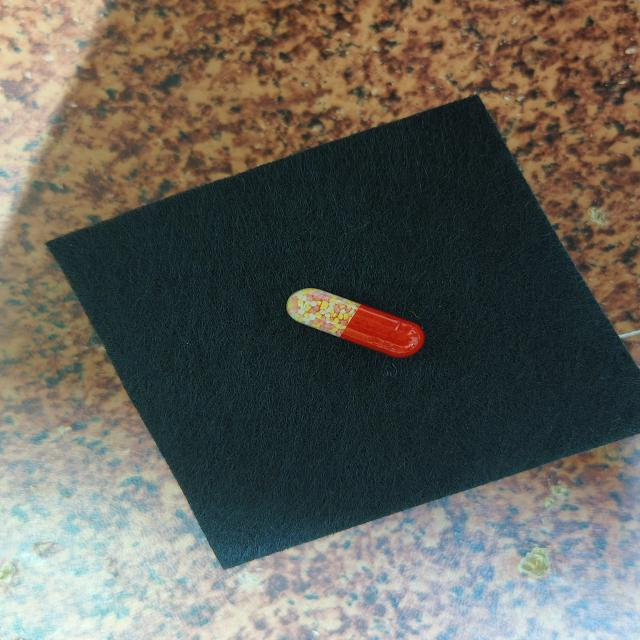Intact Capsule: (286, 288, 425, 357)
